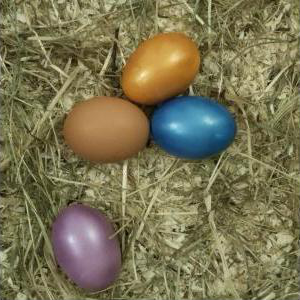egg: (52, 206, 122, 291), (63, 97, 151, 163), (123, 32, 201, 106), (152, 96, 237, 159)
